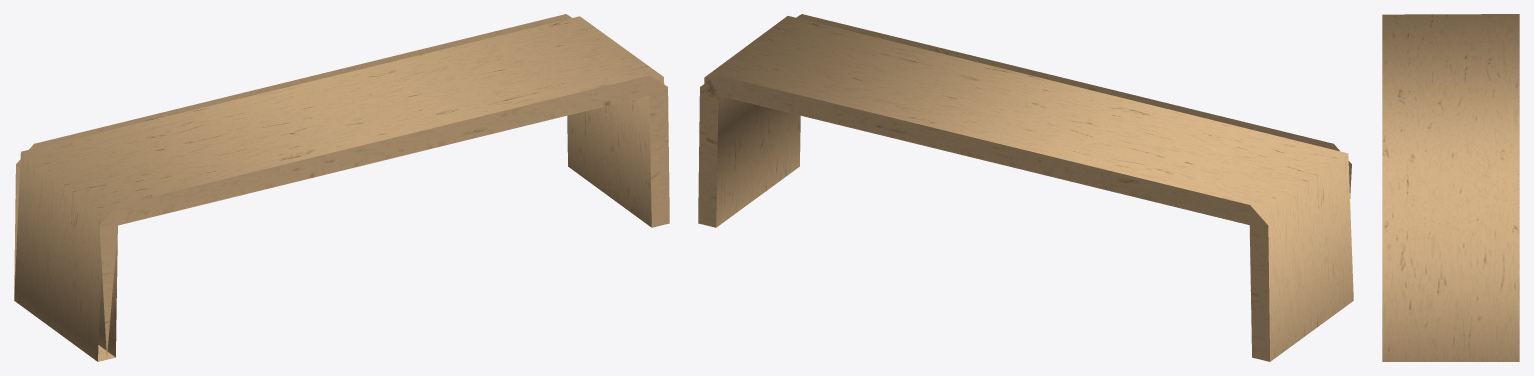
The picture shows the model from 3 angles, left to right: view 1: azimuth 30°, elevation 25°; view 2: azimuth 150°, elevation 25°; view 3: azimuth 270°, elevation 25°; orthographic projection. The views are drawn at different scales.
Visible parts, largest first — view 1: Bench; view 2: Bench; view 3: Bench.
Part boxes in pixels (x1,y1,x2,y2): Bench: [14, 14, 669, 361]; Bench: [698, 14, 1353, 361]; Bench: [1382, 14, 1519, 361].
Size of the model in its own units: 2.02 by 0.5156 by 0.5111.
1 material, 1 textured.
